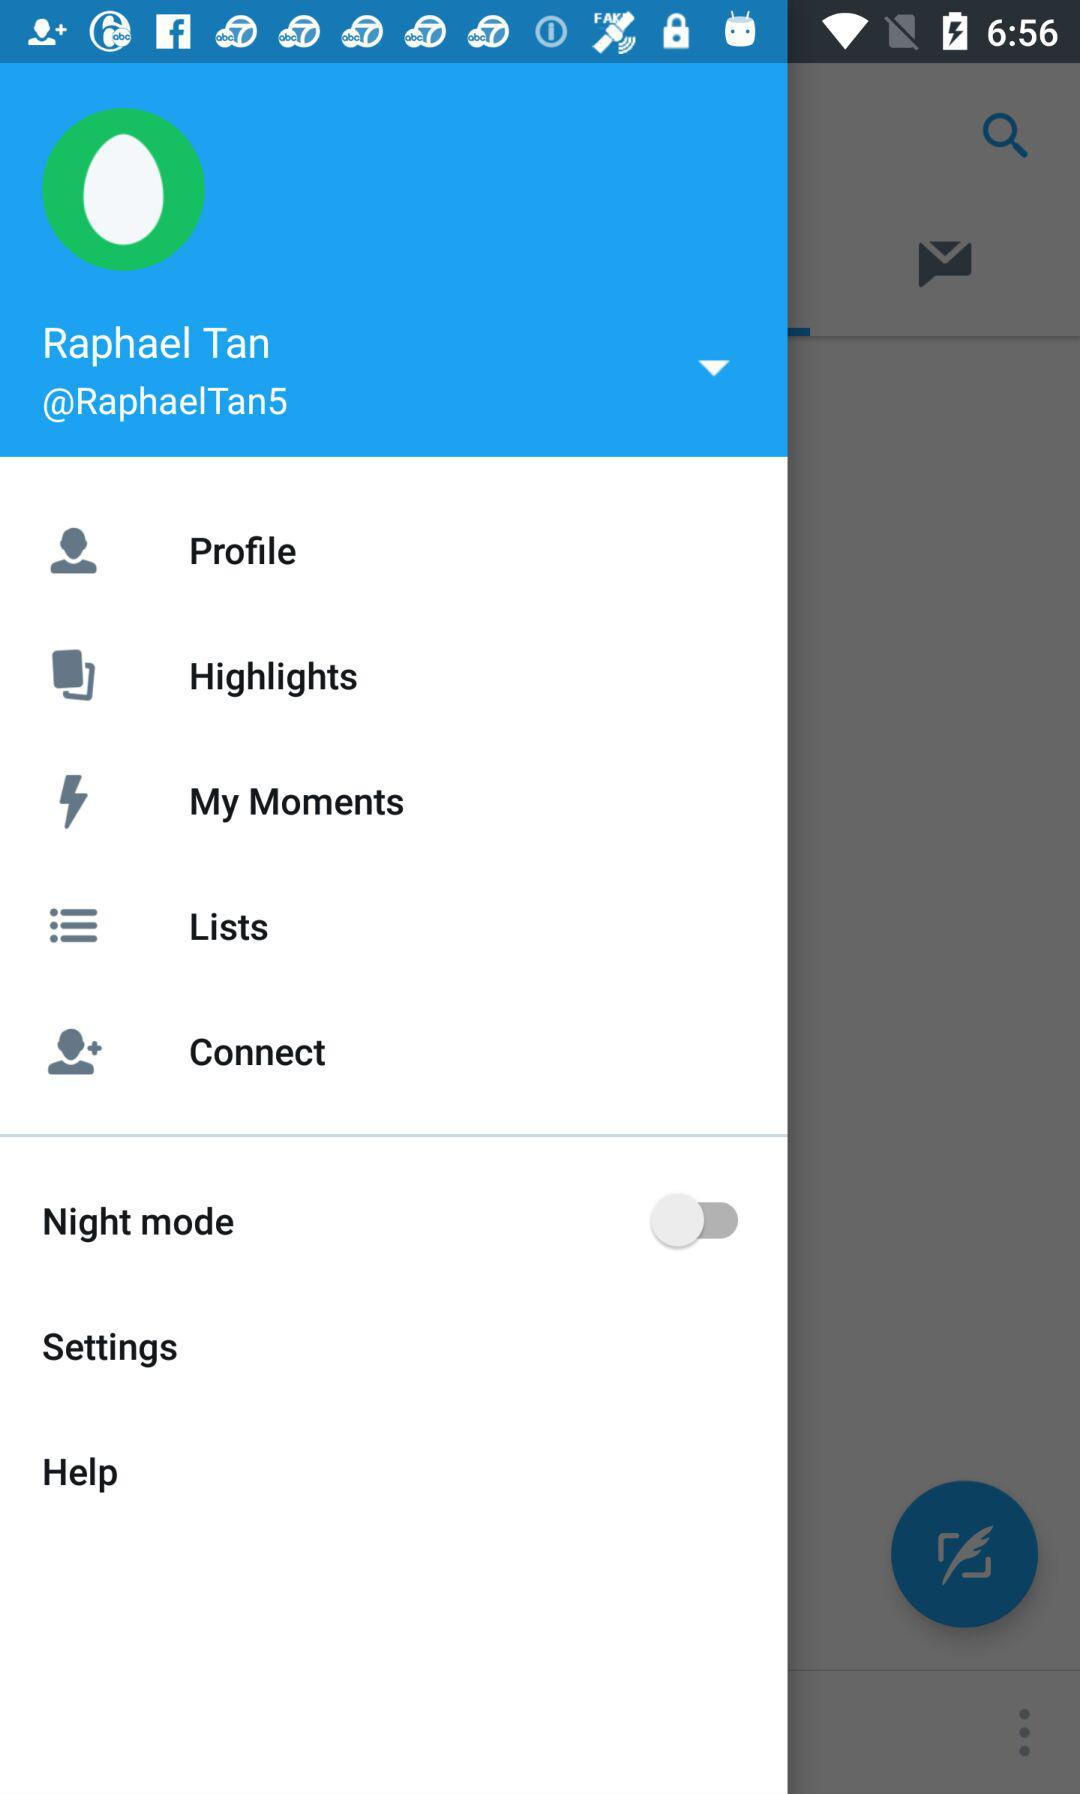Drawer: (1, 64, 788, 1794)
Icon: (47, 1028, 104, 1076), (53, 648, 97, 704), (51, 527, 99, 575), (50, 909, 99, 944), (697, 360, 732, 378)
Image: (42, 108, 206, 272), (60, 775, 90, 830)
Switch: (650, 1192, 740, 1249)
Text: (45, 325, 272, 369), (44, 384, 288, 424), (191, 786, 405, 824), (44, 1206, 234, 1244), (191, 660, 359, 698), (44, 1331, 178, 1369), (190, 1037, 327, 1067), (191, 536, 297, 566), (44, 1456, 119, 1494), (191, 912, 269, 942)
UpperTaskBar: (1, 1, 1080, 64)
